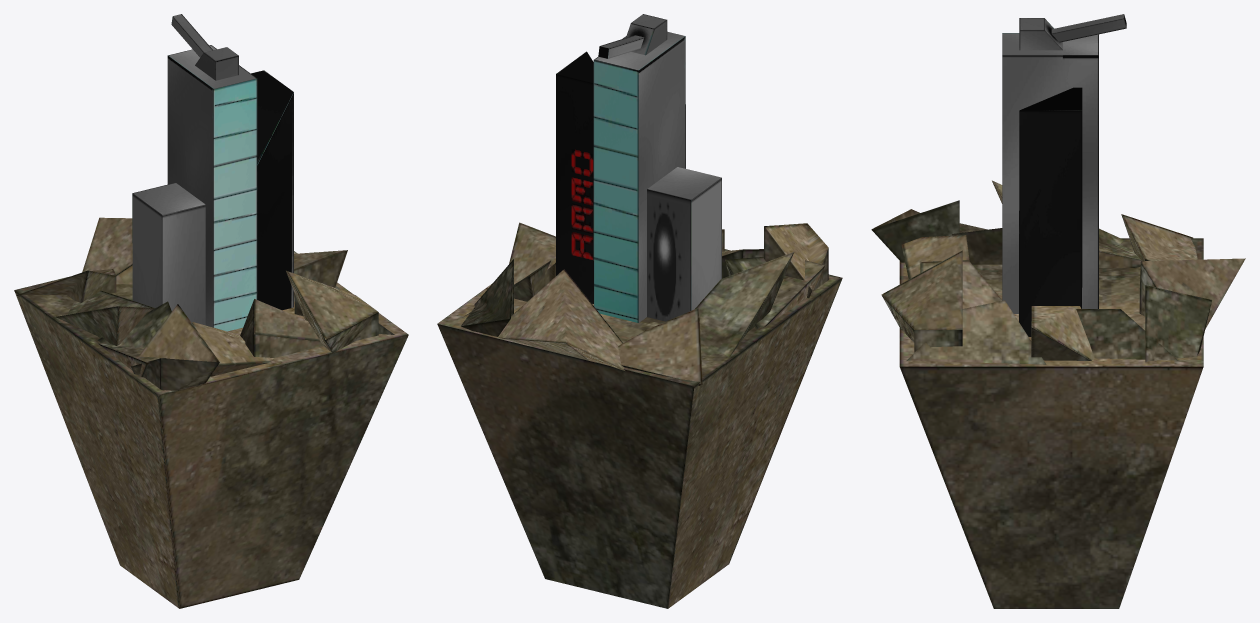
3 views of the same model, side by side, from view 1: azimuth 30°, elevation 25°; view 2: azimuth 150°, elevation 25°; view 3: azimuth 270°, elevation 25° (orthographic). The views are drawn at different scales.
Parts seen in each view (by area): view 1: Attack_Island; view 2: Attack_Island; view 3: Attack_Island.
Part boxes in pixels (x1,y1,x2,y2): Attack_Island: [14, 14, 408, 608]; Attack_Island: [437, 14, 842, 608]; Attack_Island: [871, 14, 1245, 608].
Bounding box in the file's own units: 835 × 1669 × 1009.
1 material, 1 textured.
